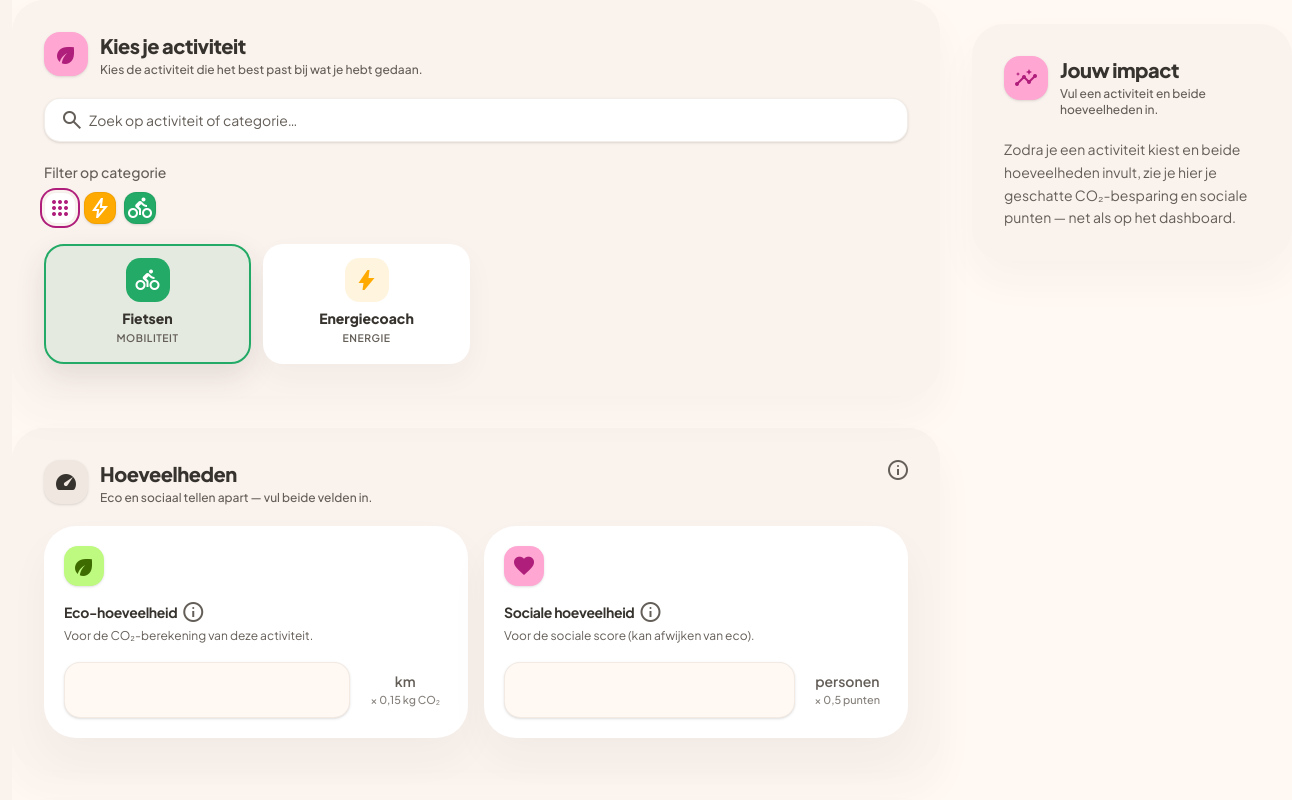
Test case: RegistrationForm › shows an error when quantity is left empty on blur
Type "3" into the field named "Eco-hoeveelheid".
click(207, 690); type("3")  # box x1=64 y1=662 x2=350 y2=718
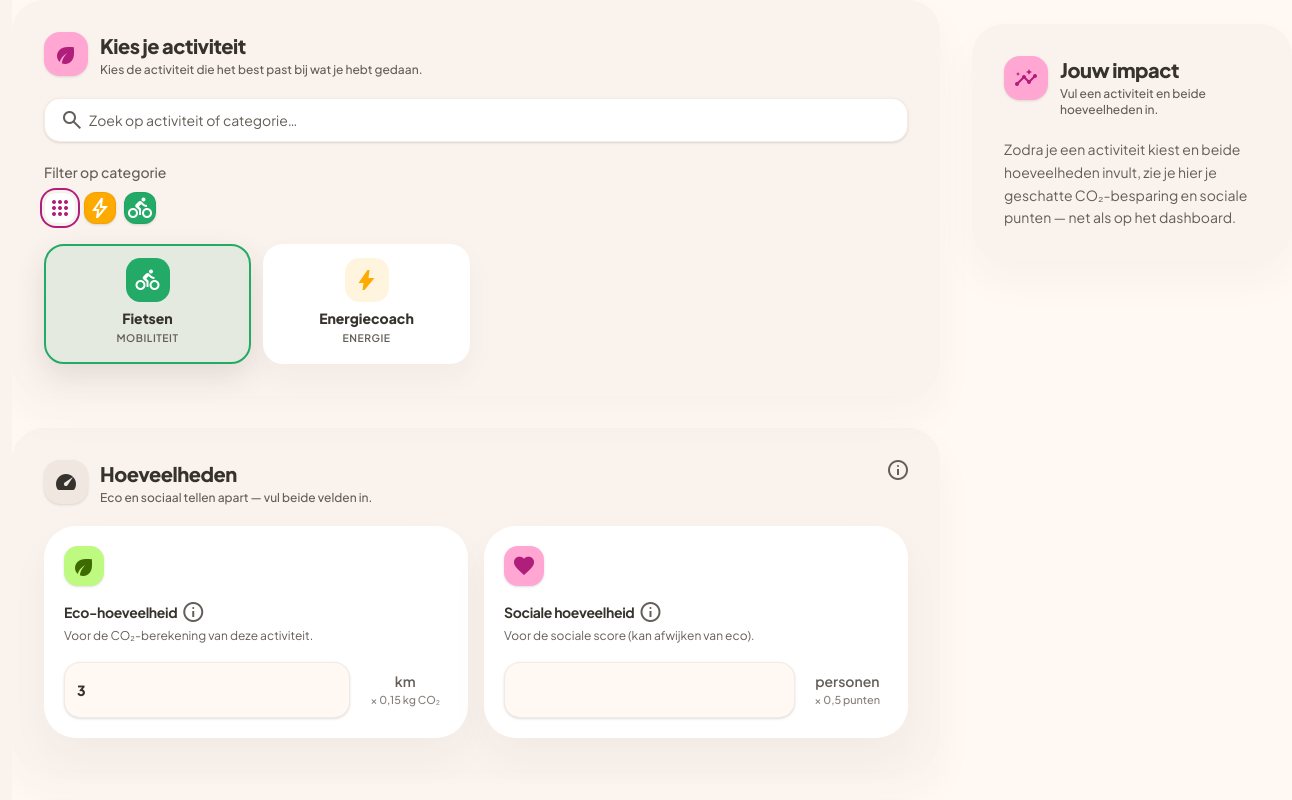
Clear the field named "Eco-hoeveelheid" at (207, 690), box x1=64 y1=662 x2=350 y2=718
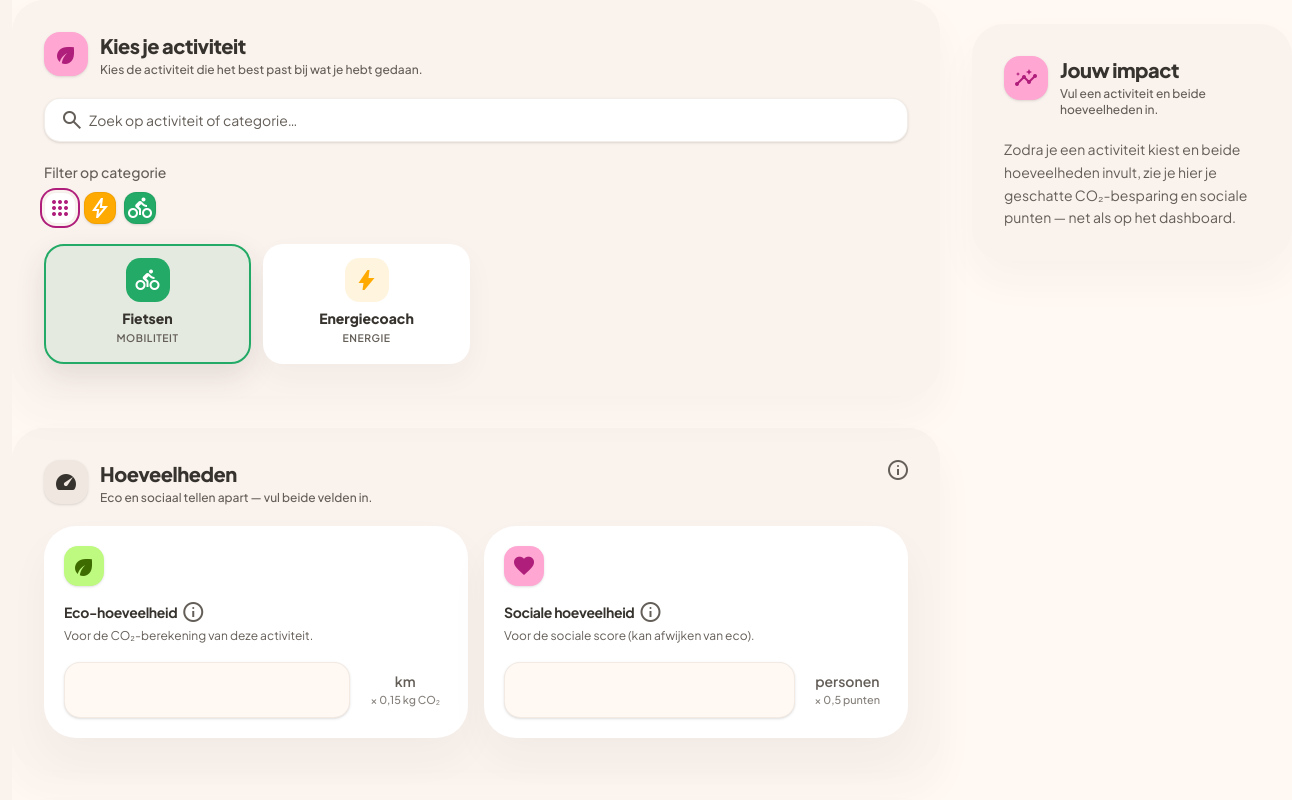
Leave the field named "Eco-hoeveelheid", box x1=64 y1=662 x2=350 y2=718
(page scrolled)
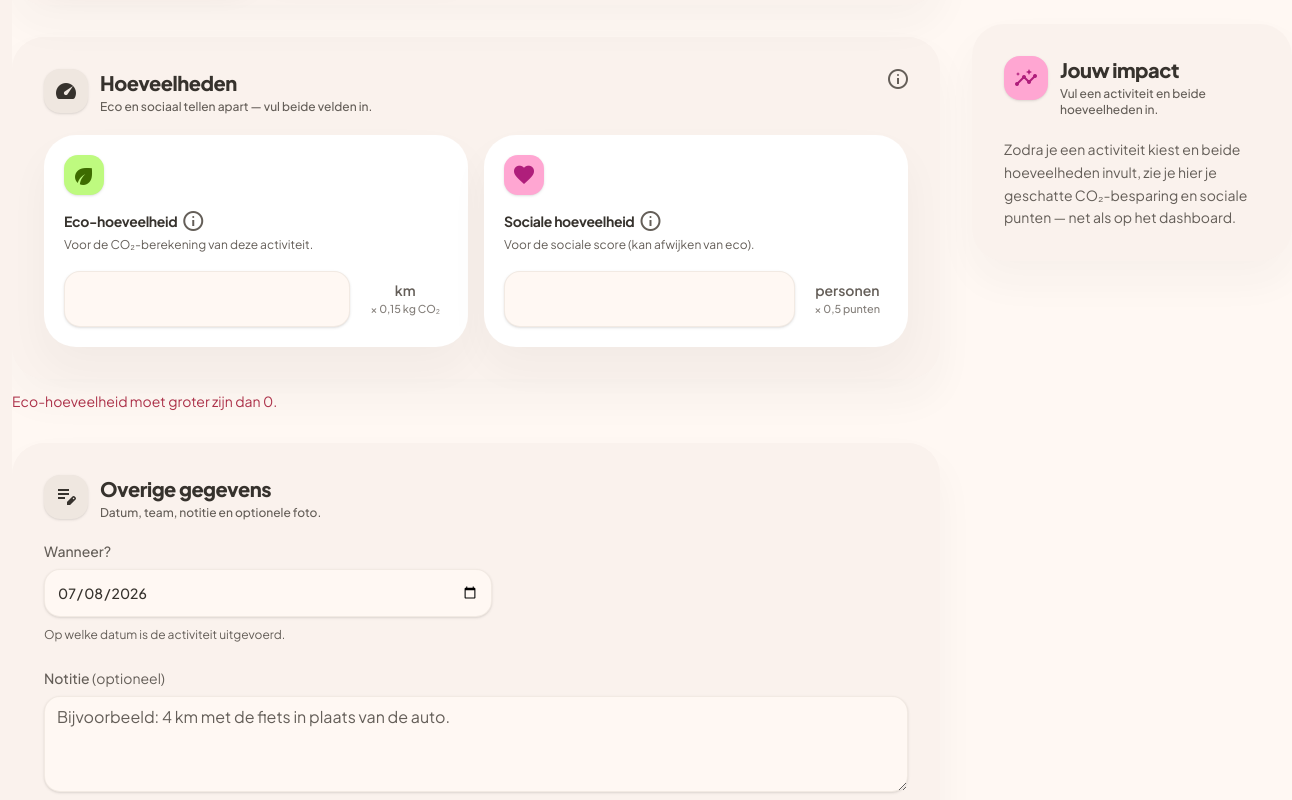
Check: the text "Eco-hoeveelheid moet groter zijn dan 0." is shown, box x1=12 y1=392 x2=277 y2=410
